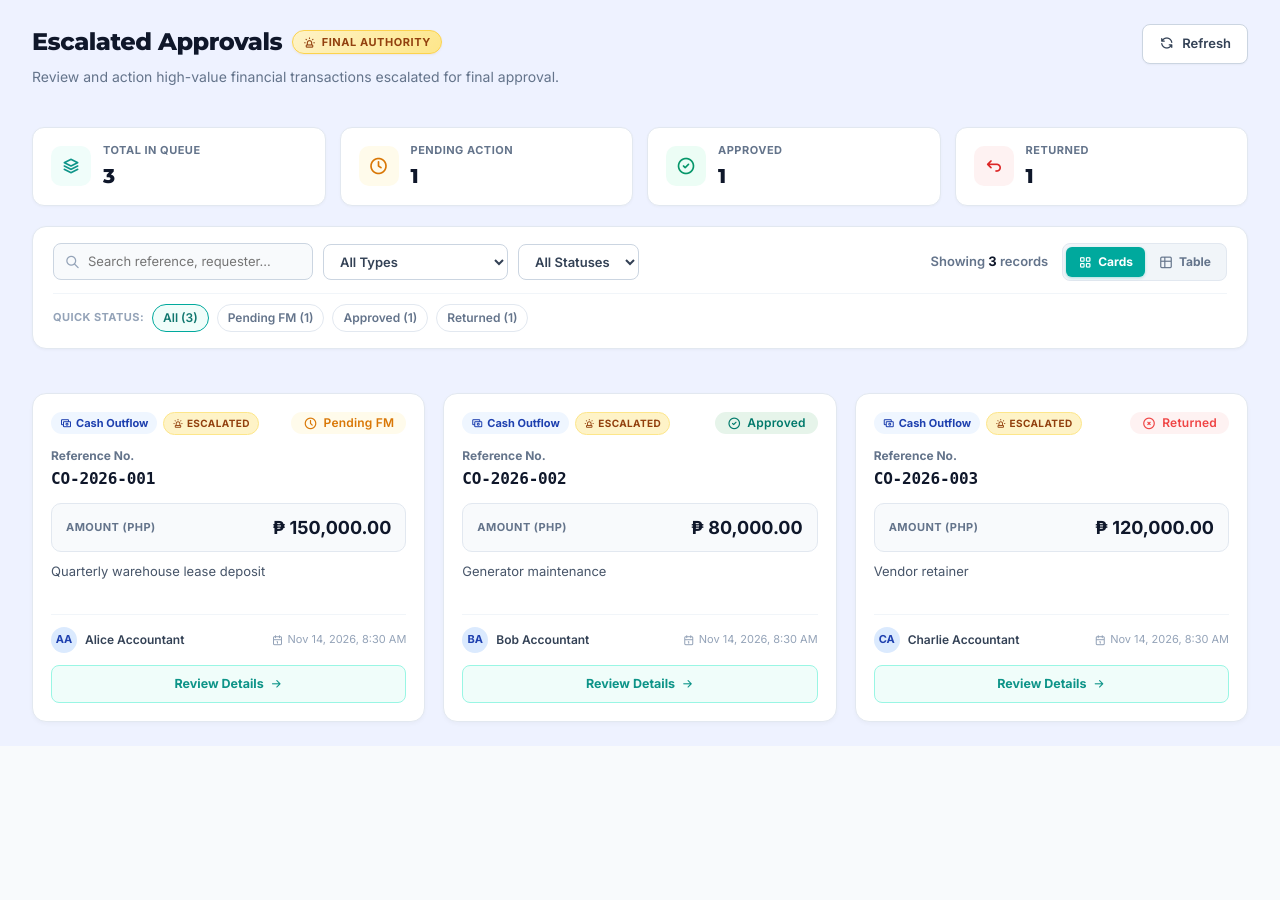
ApprovalsQueue — Status Filter & View Modes (Cards & Table) › renders Cards view by default and toggles to Table view when clicked
Check: the text "CO-2026-001" is shown, box [51,468,155,488]
Check: the 1st button "Review Details" is shown, box [51,664,406,703]
Note: Click "Table" toggle button
Click the button with test id "view-table-btn".
click(1185, 262)  # box [1147,246,1223,276]
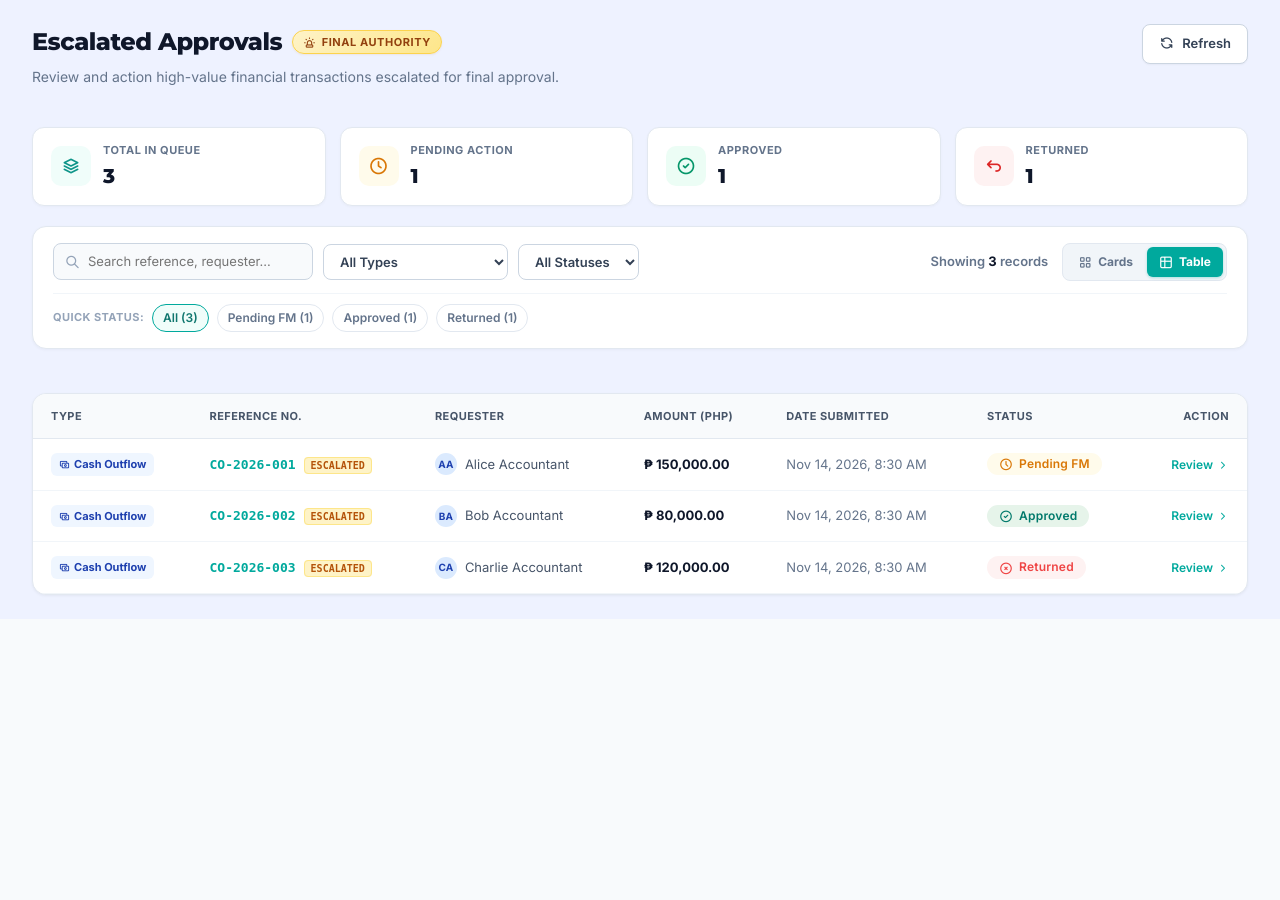
Check: the column heading "Reference No." is shown, box [192,394,417,438]
Check: the table with test id "approvals-table" is shown, box [33,394,1247,594]
Note: Click "Cards" toggle button to return to cards view
Click the button with test id "view-cards-btn".
click(1106, 262)  # box [1066,246,1145,276]
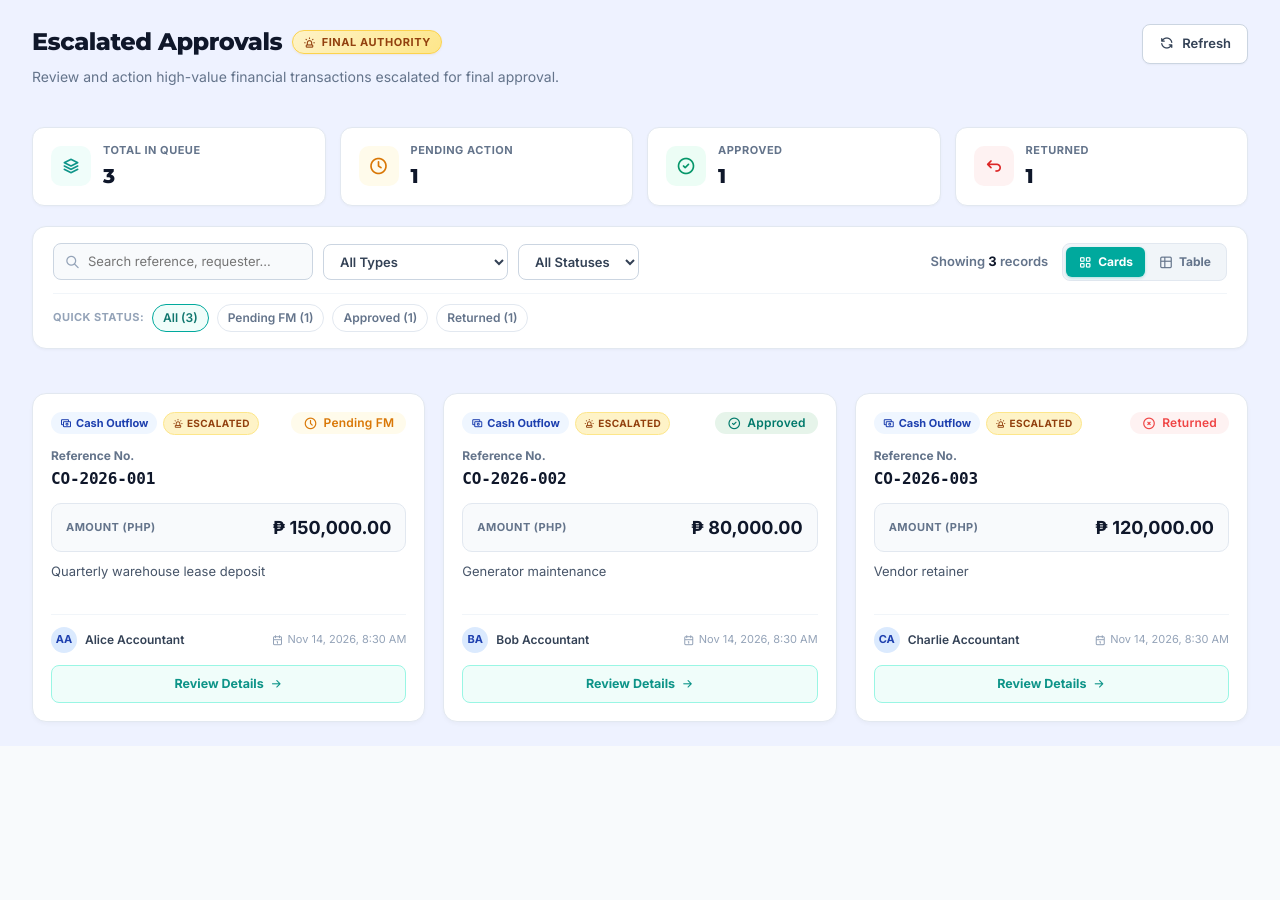
Check: the table with test id "approvals-table" is gone
Check: the 1st button "Review Details" is shown, box [51,664,406,703]
